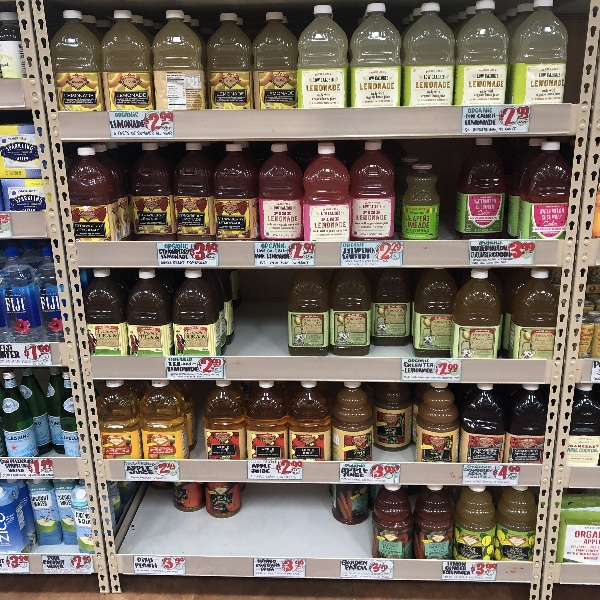void: (103, 481, 375, 567), (226, 272, 293, 360)
